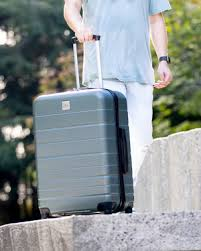suitcase: (31, 33, 137, 219)
